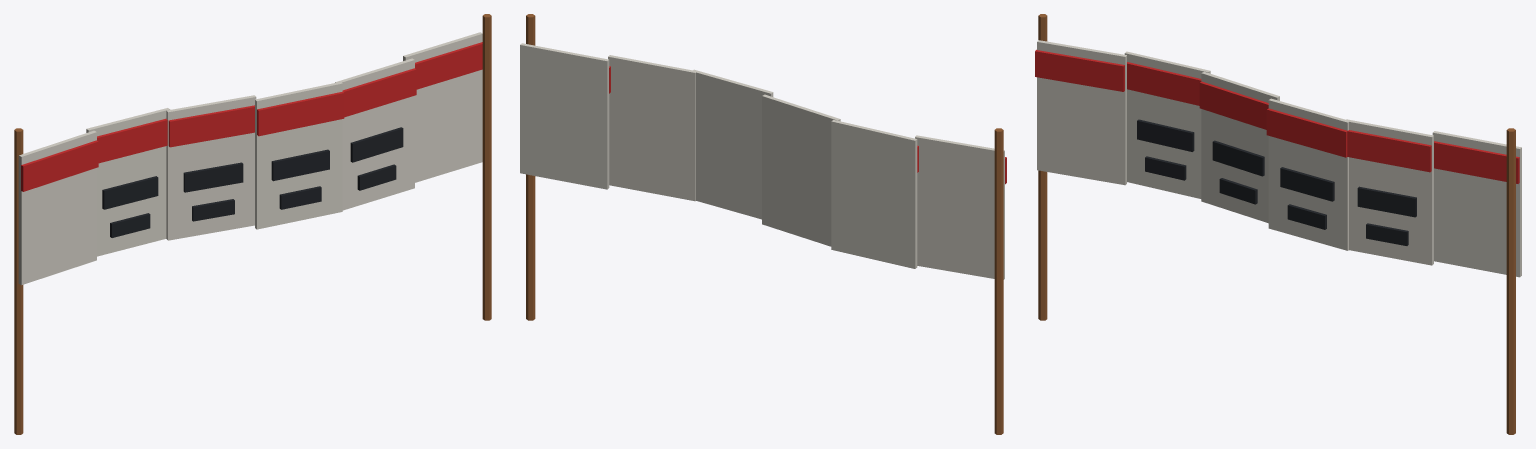
Rendered from banner.fbx.
3 renders of one model, left to right at view 1: azimuth 30°, elevation 25°; view 2: azimuth 150°, elevation 25°; view 3: azimuth 330°, elevation 25°, orthographic.
Visible parts, largest first — view 1: banner; view 2: banner; view 3: banner.
Boxes of the visible parts, x1,y1,x2,y2 form: banner: [14, 14, 491, 434]; banner: [520, 14, 1006, 434]; banner: [1035, 14, 1521, 434].
Size of the model in its own units: 4.26 by 2.6 by 0.3195.
